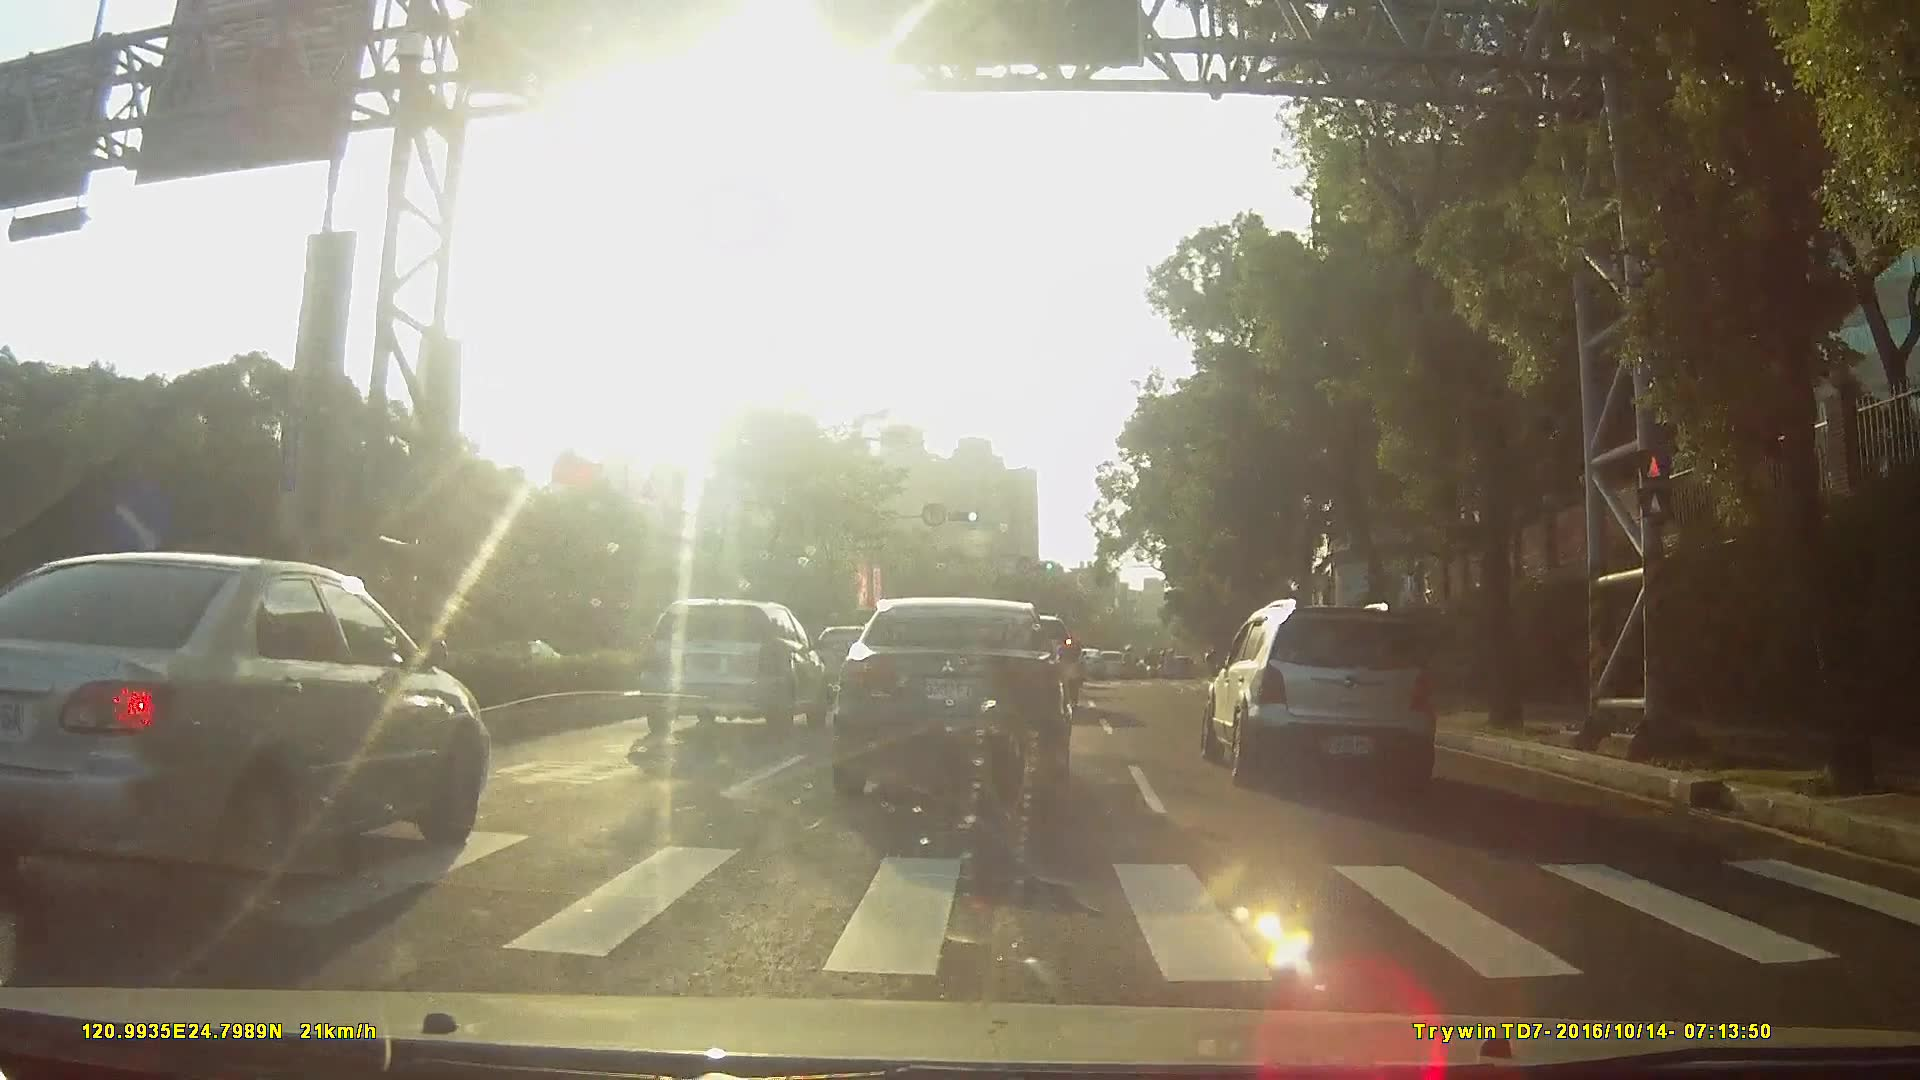vehicle: (1, 538, 485, 898), (1191, 597, 1451, 791), (835, 588, 1069, 796), (630, 592, 825, 728), (1065, 638, 1101, 674), (1088, 641, 1126, 673)
